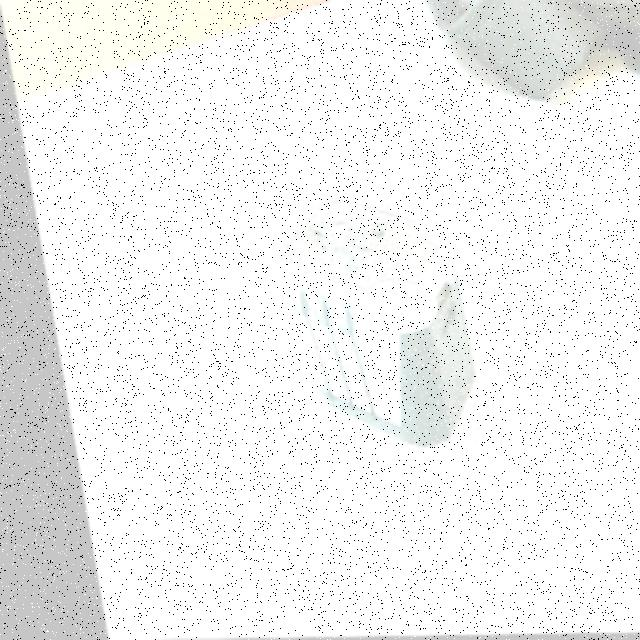adapter: (259, 194, 473, 450)
